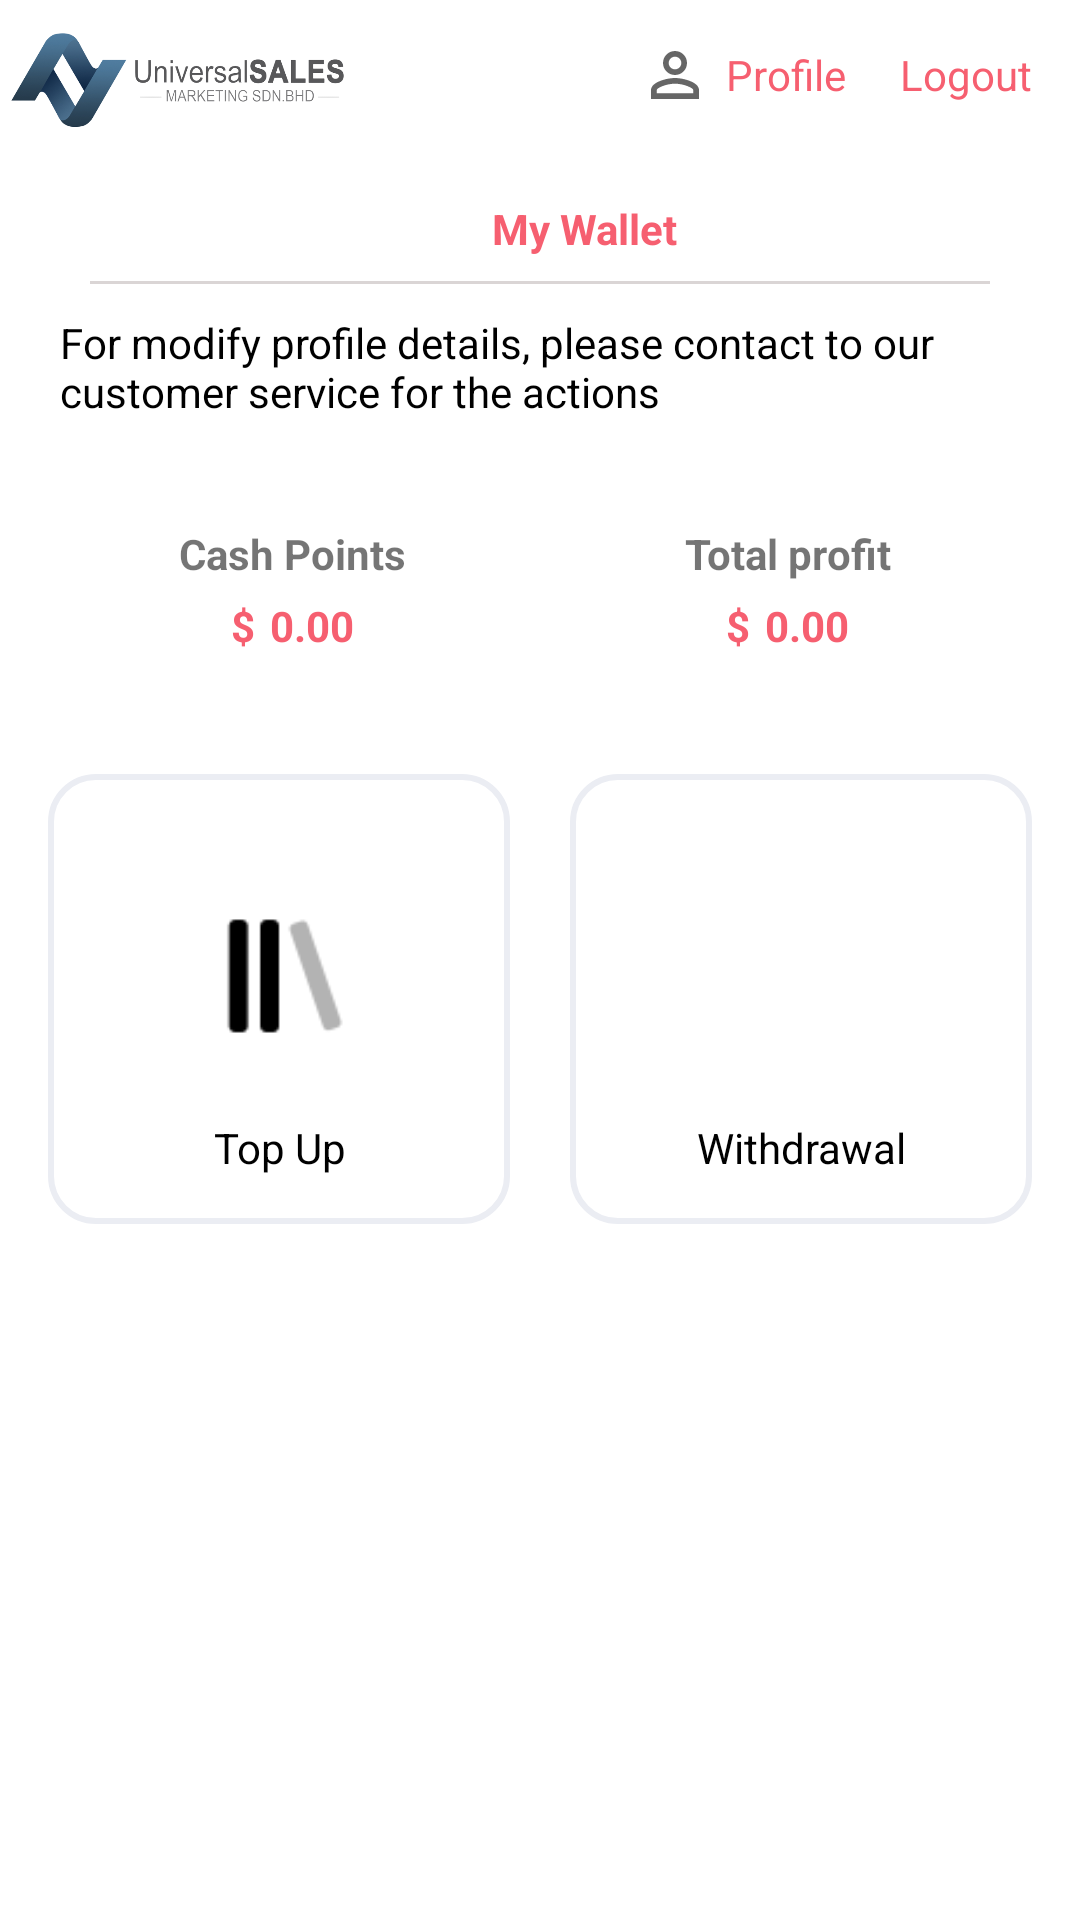

Screen size 1080×1920. Icon name, then its box in pixels as bbox(x1, y1, x2, y2):
library: bbox(227, 919, 342, 1033)
person: bbox(651, 51, 699, 99)
